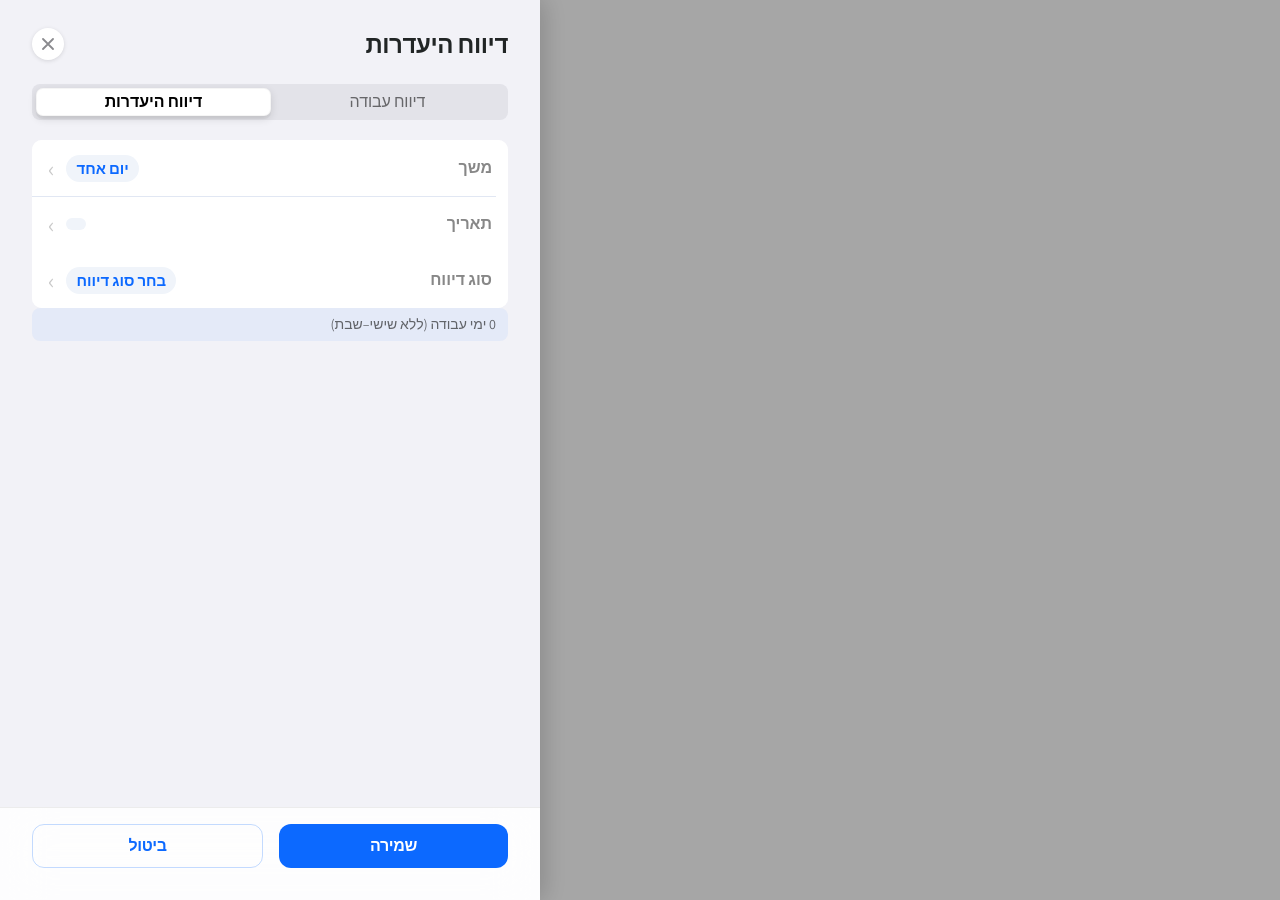
Test case: AbsenceForm › blocks submission while any validation error exists
Click the button "שמירה".
click(394, 846)  # box left=279, top=824, right=508, bottom=868
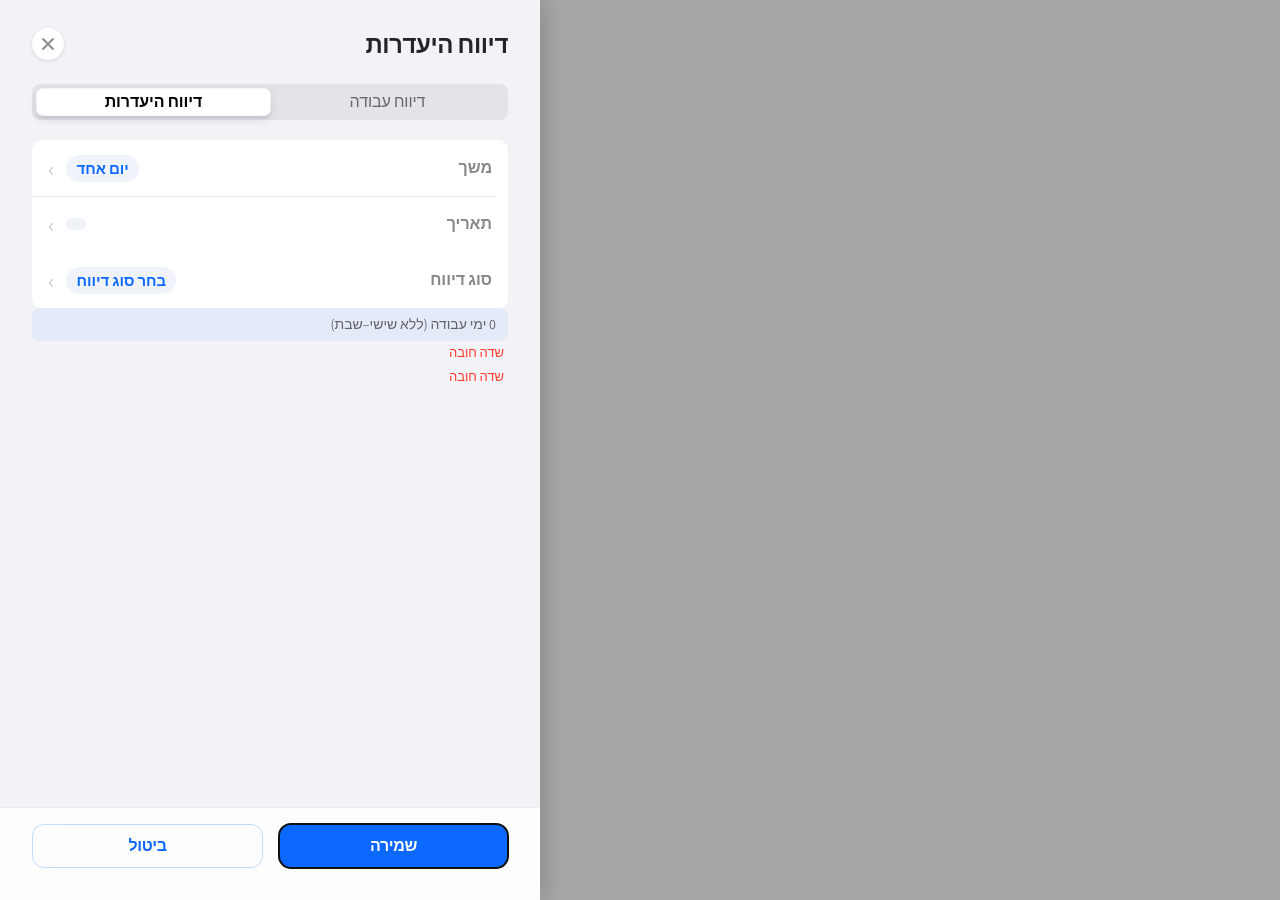
Expected: the 1st text "שדה חובה" is shown, left=449, top=344, right=504, bottom=361
